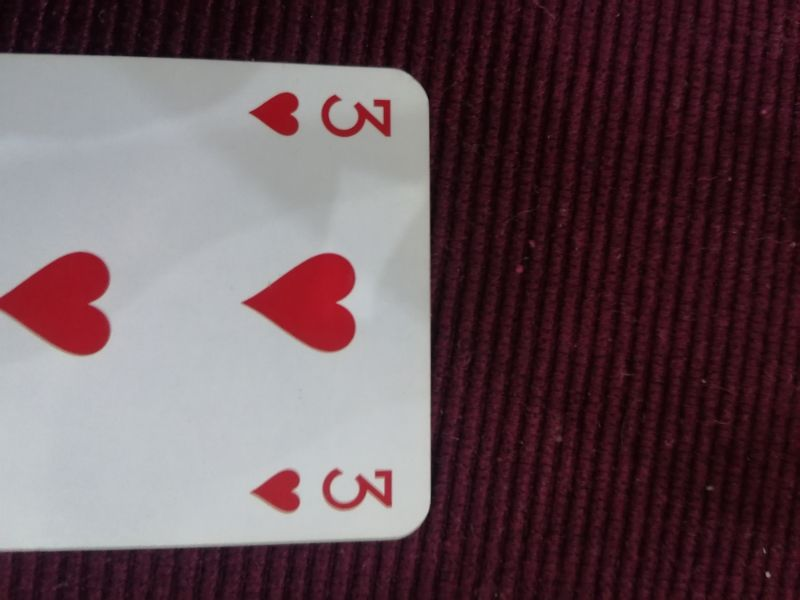3h: (245, 461, 402, 517), (247, 87, 399, 140)
